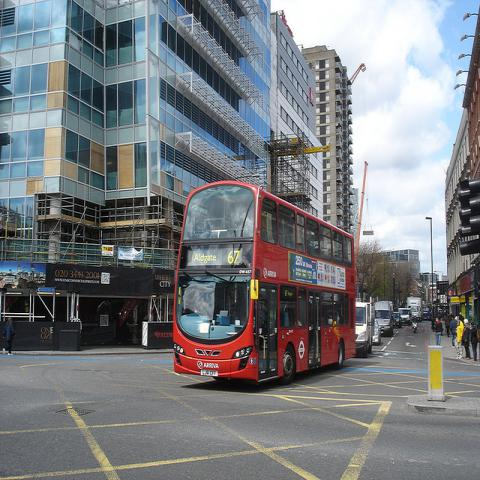bus: (170, 178, 358, 386)
car: (373, 312, 402, 345), (399, 308, 413, 328)
motorcycle: (412, 322, 418, 332)
truck: (356, 298, 374, 360), (374, 300, 395, 336), (407, 298, 423, 322), (398, 308, 411, 325)
